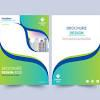paper: (0, 15, 100, 85)
